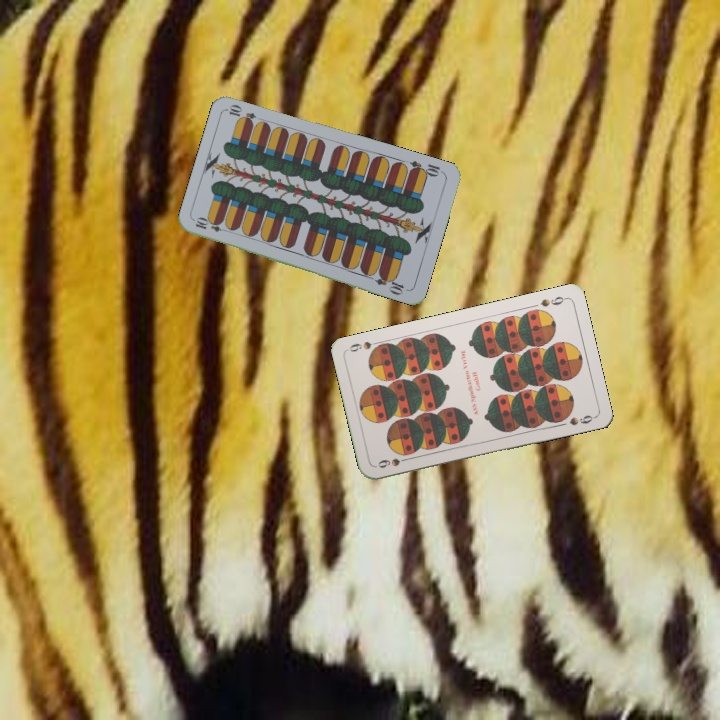E10: (406, 157, 446, 179), (191, 215, 232, 235)
S9: (374, 453, 413, 471), (536, 292, 569, 309)
